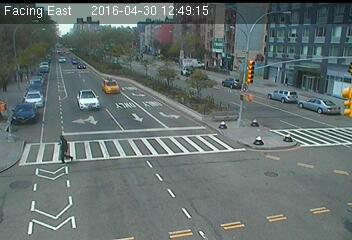neg: (77, 134, 98, 161), (76, 86, 93, 110), (156, 71, 171, 91), (135, 60, 148, 77), (235, 91, 247, 107), (216, 56, 226, 69), (253, 51, 263, 63), (54, 53, 63, 65), (104, 73, 112, 85), (183, 65, 190, 74)
pos: (50, 134, 74, 165), (16, 70, 26, 83), (1, 79, 10, 93), (284, 76, 292, 87)
